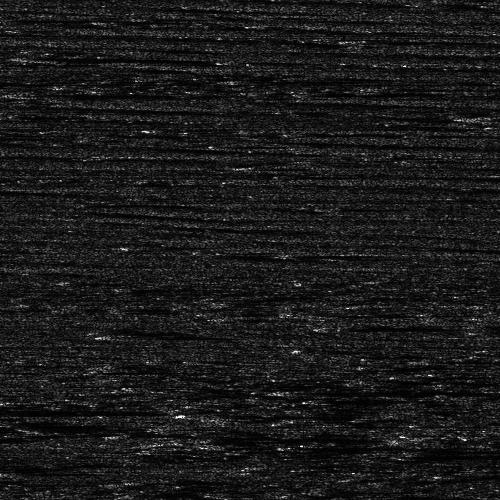rock: (0, 89, 55, 96), (474, 114, 500, 117)
shadow: (0, 403, 118, 416), (24, 89, 195, 96)
